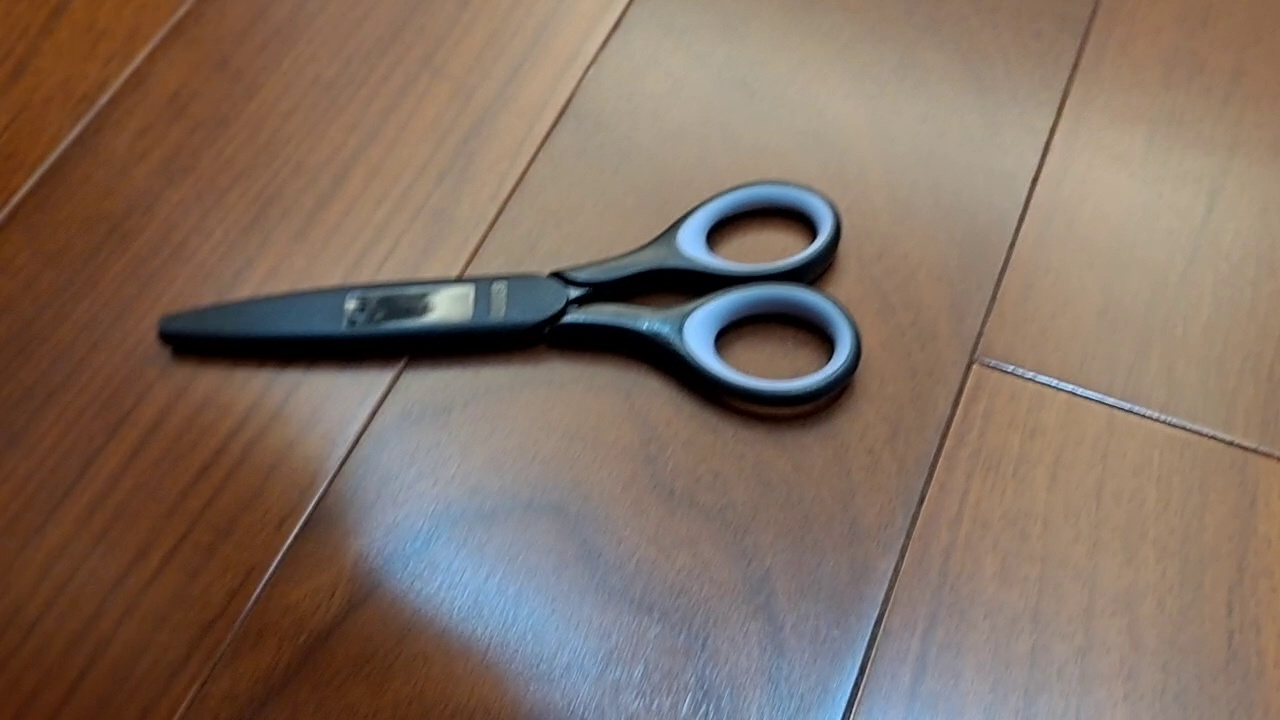scissors: (153, 176, 864, 413)
